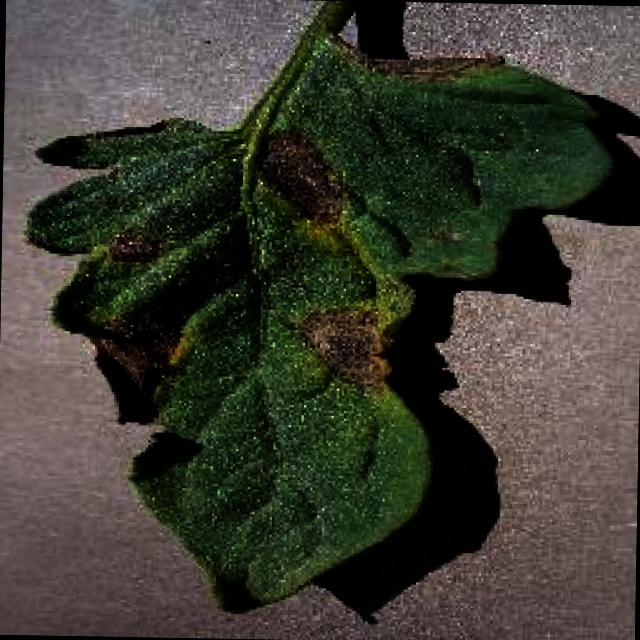Tomato Early blight leaf: (20, 36, 609, 622)
